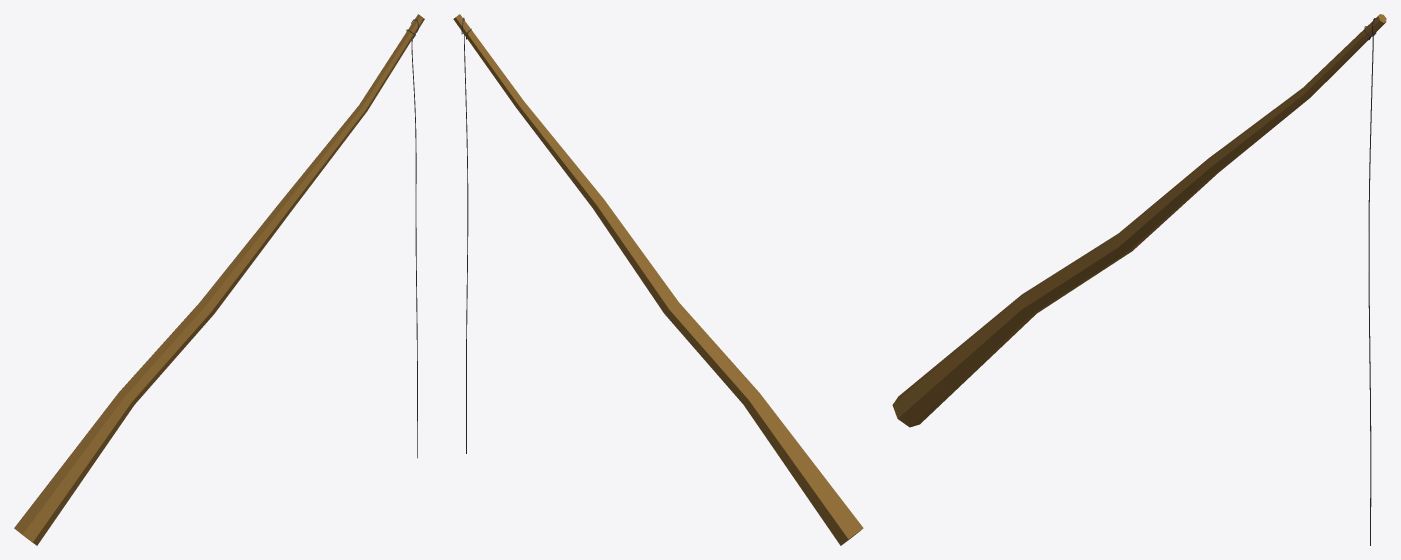
File: SM_FishingRod_001.fbx
The picture shows the model from 3 angles, left to right: view 1: azimuth 30°, elevation 25°; view 2: azimuth 150°, elevation 25°; view 3: azimuth 330°, elevation 25°; orthographic projection. The views are drawn at different scales.
Visible parts, largest first — view 1: FishingRod; view 2: FishingRod; view 3: FishingRod.
Part boxes in pixels (x1,y1,x2,y2): FishingRod: [14, 14, 424, 545]; FishingRod: [453, 14, 863, 545]; FishingRod: [892, 14, 1386, 545].
Bounding box in the file's own units: 79.12 × 81.75 × 5.
